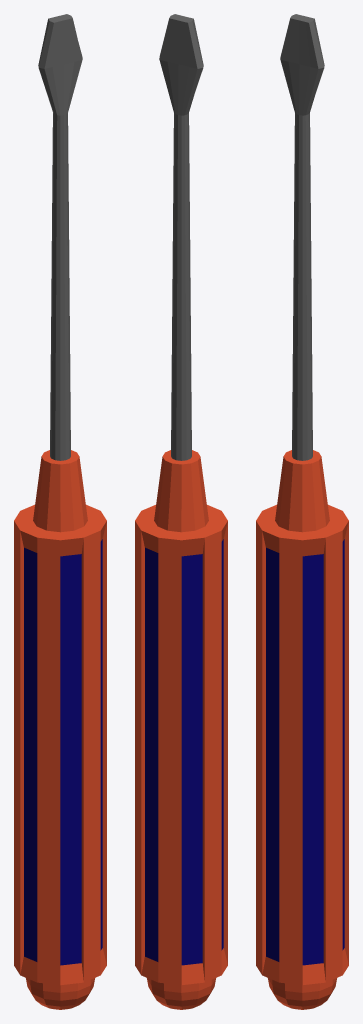
The model's file is Destornillador punta plana texturas simples.fbx.
The picture shows the model from 3 angles, left to right: view 1: azimuth 30°, elevation 25°; view 2: azimuth 150°, elevation 25°; view 3: azimuth 330°, elevation 25°; orthographic projection.
Parts seen in each view (by area): view 1: Cylinder.001; view 2: Cylinder.001; view 3: Cylinder.001.
Part boxes in pixels (box(x1,y1,x2,y2)): Cylinder.001: box(14, 14, 106, 1009); Cylinder.001: box(135, 14, 227, 1009); Cylinder.001: box(256, 14, 348, 1009).
Bounding box in the file's own units: 9.93 × 116 × 9.93.
